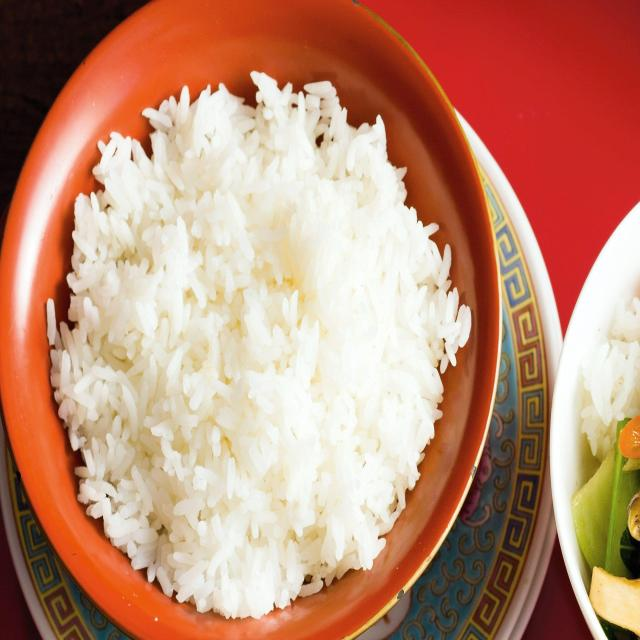rice: (54, 72, 468, 618)
